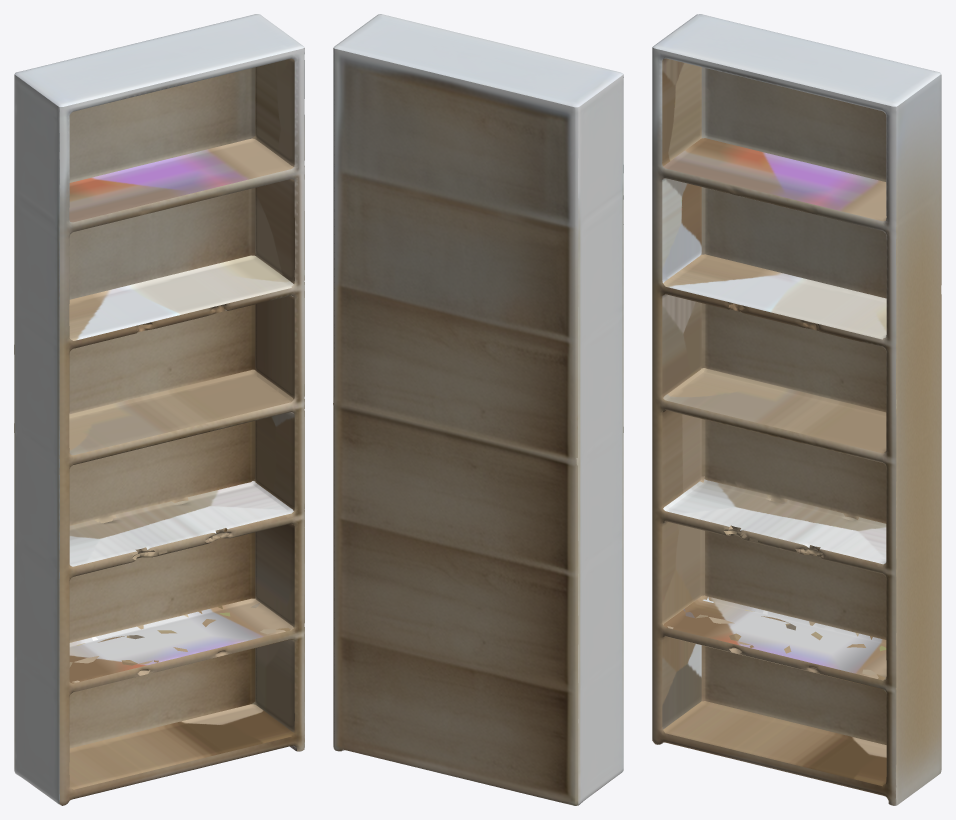
The model's file is shelf__shelf#1.glb.
3 renders of one model, left to right at view 1: azimuth 30°, elevation 25°; view 2: azimuth 150°, elevation 25°; view 3: azimuth 330°, elevation 25°, orthographic.
Visible parts, largest first — view 1: tmpu42oawcg.ply; view 2: tmpu42oawcg.ply; view 3: tmpu42oawcg.ply.
Boxes of the visible parts, <box> form: tmpu42oawcg.ply: <box>14,14,304,805</box>; tmpu42oawcg.ply: <box>333,14,623,805</box>; tmpu42oawcg.ply: <box>652,14,941,805</box>.
Bounding box in the file's own units: 0.7269 × 1.99 × 0.2427.
1 material, 1 textured.
